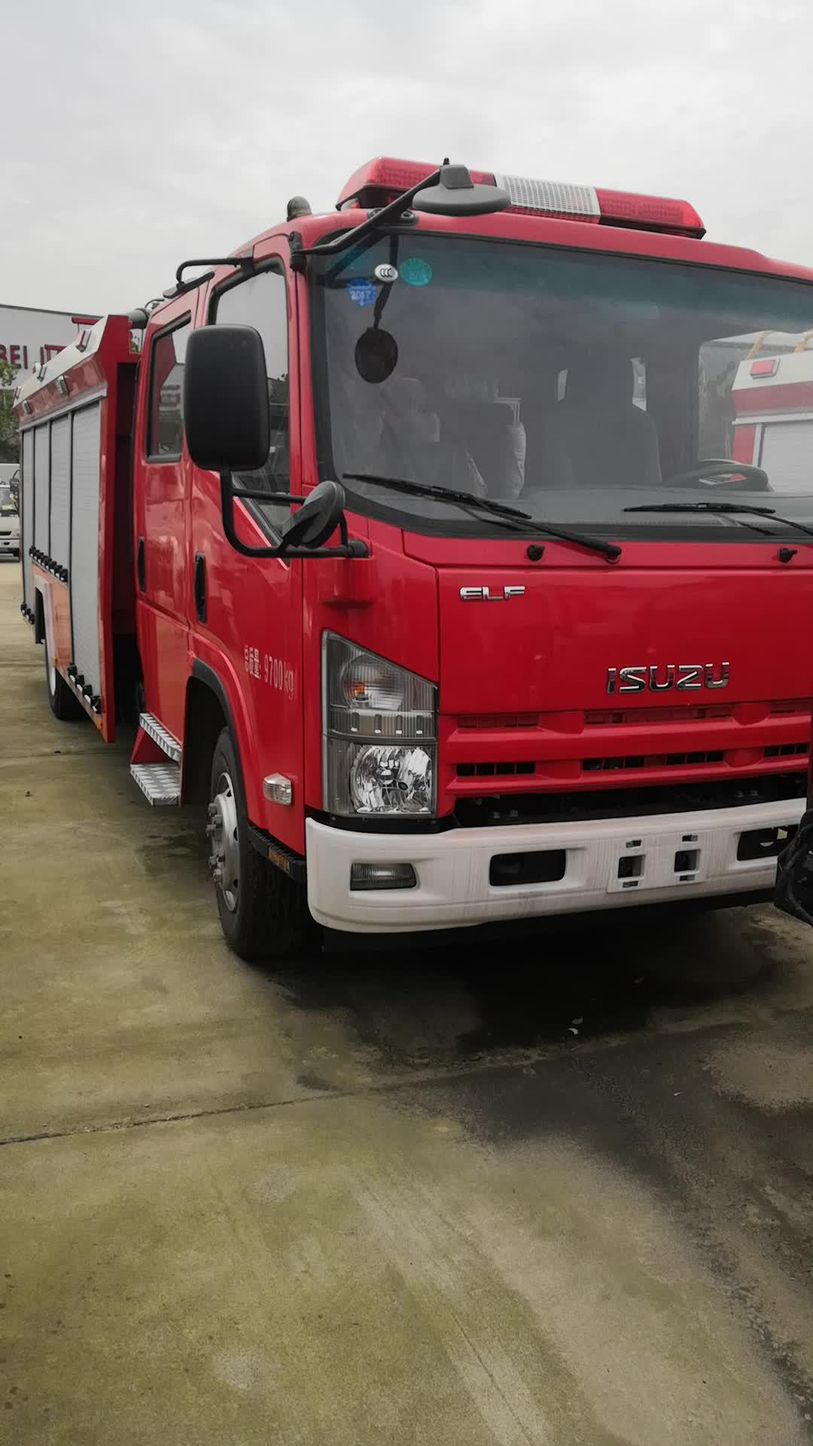Fire-engine: (11, 154, 811, 962)
